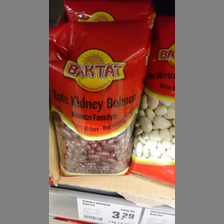beans: (54, 23, 151, 183)
